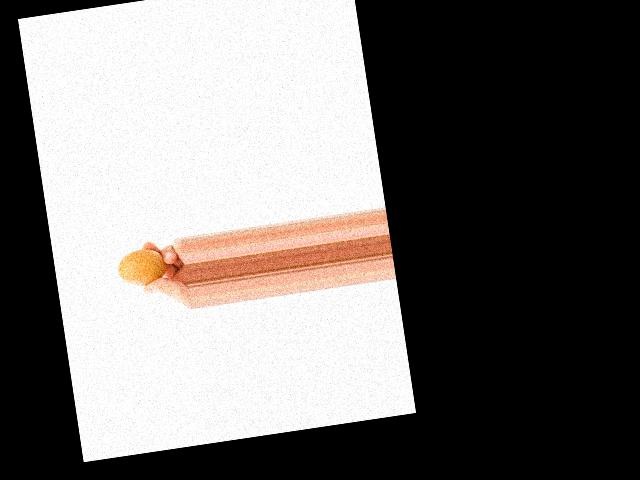egg: (115, 245, 167, 288)
